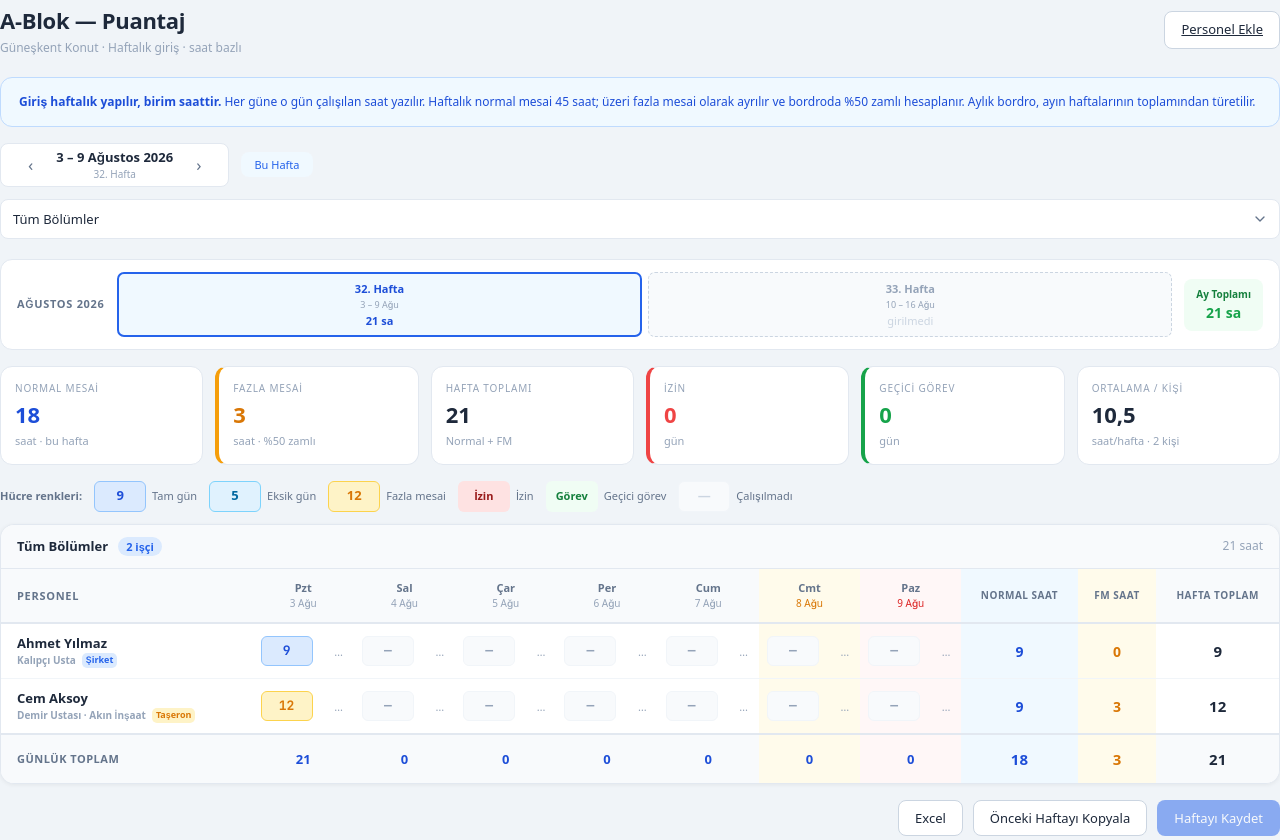
Test: SiteTimesheetView · kaydetme sonucu › başarılı kayıttan sonra 'kaydedildi' yazar ve taslak düşer
The image size is (1280, 840).
Click the 1st button "…": (339, 651) [331,644,346,658]
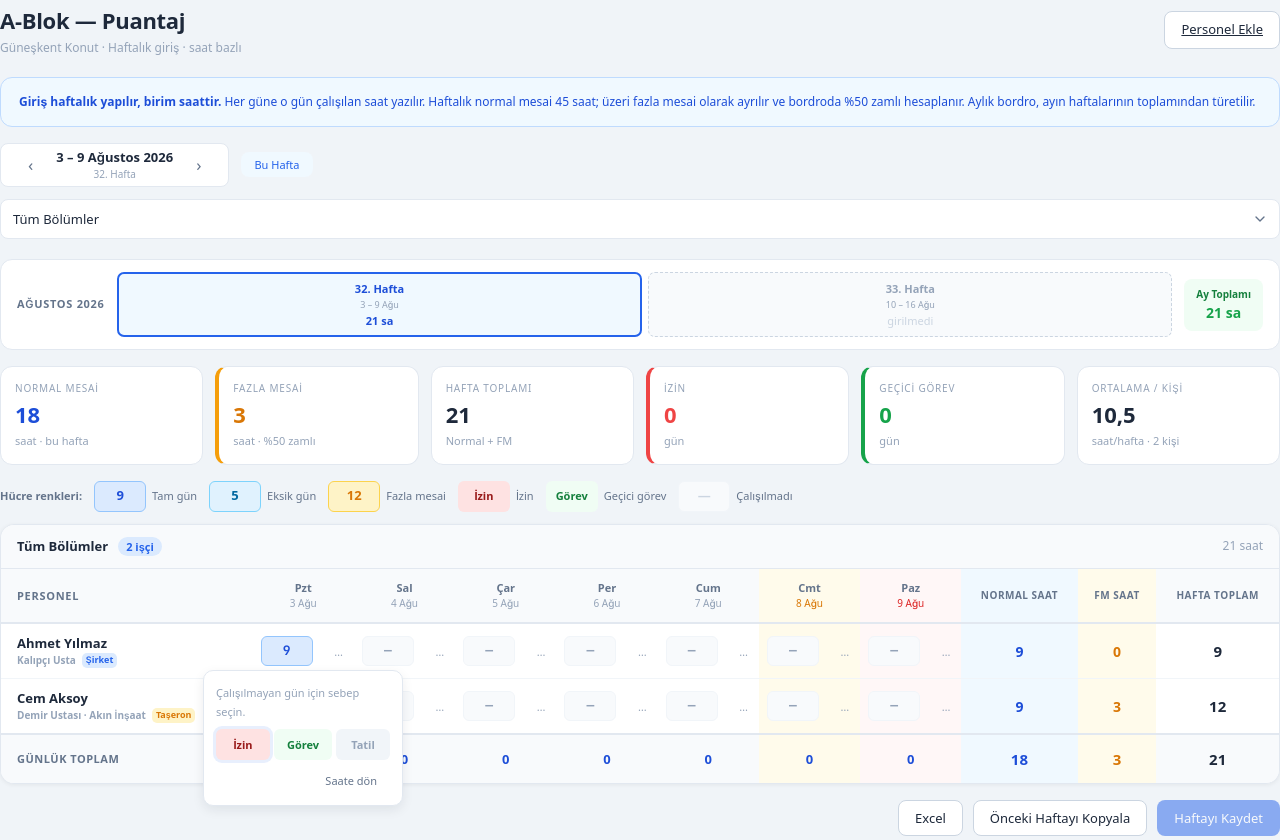
Click the button "İzin": (243, 744) [216,729,270,760]
(page scrolled)
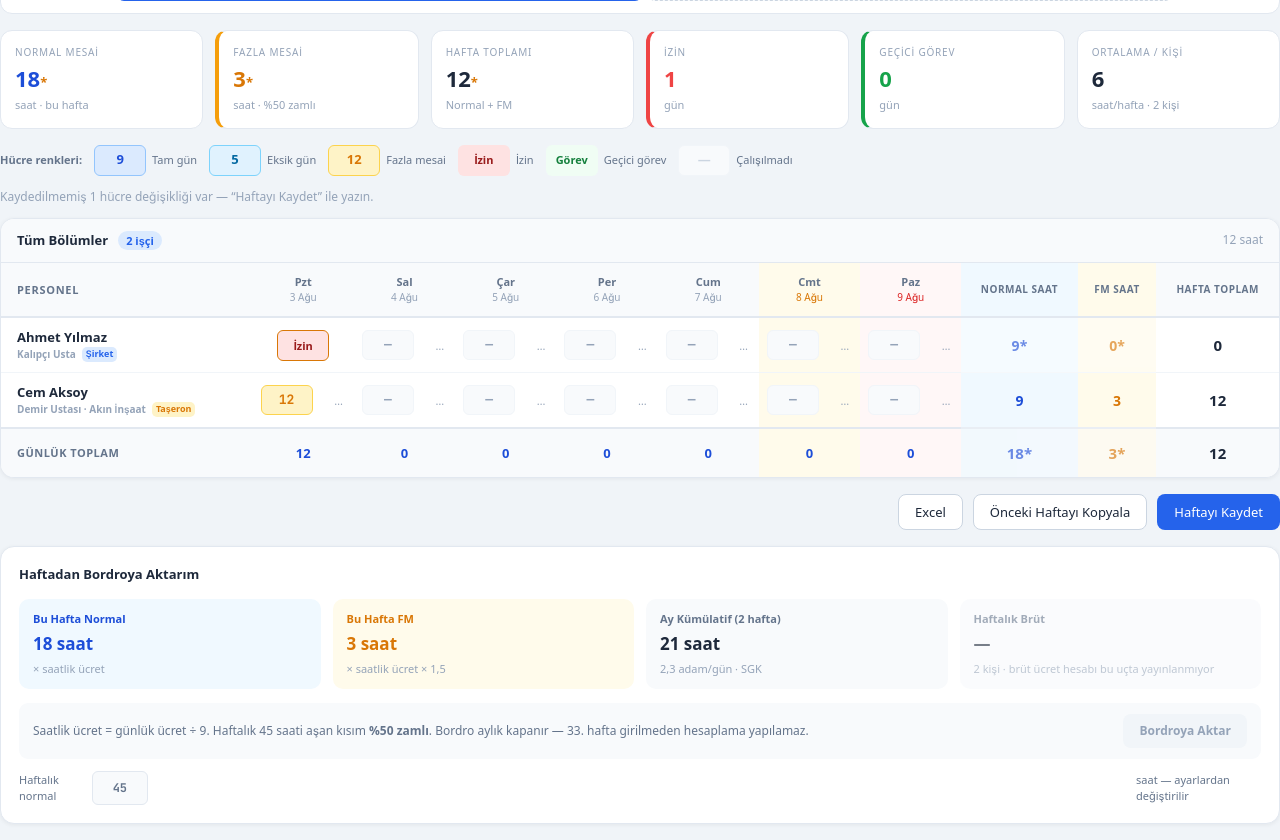
Click the button "Haftayı Kaydet": (1219, 512) [1157,494,1279,530]
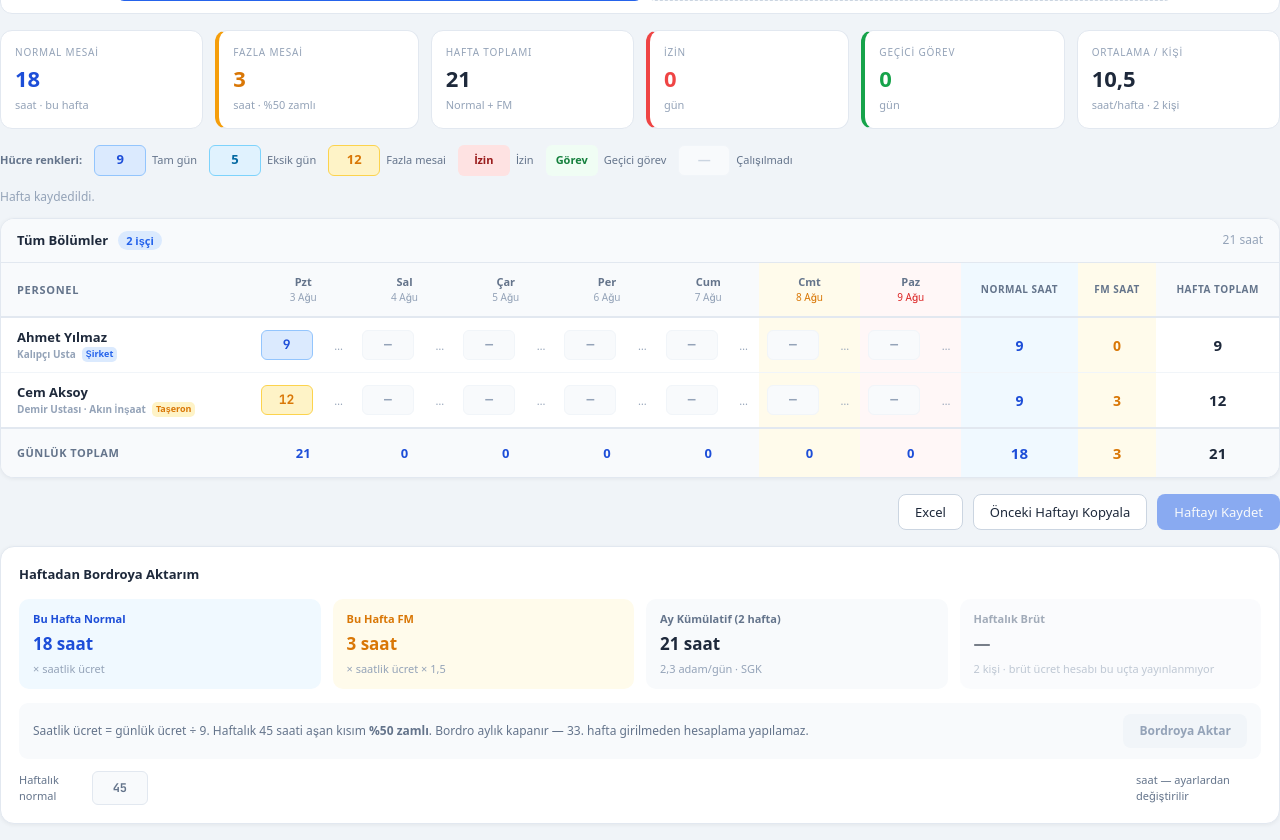
Expected: the text "Hafta kaydedildi." is shown, [0,188,95,204]
Expected: the button "Haftayı Kaydet" is disabled, [1157,494,1279,530]
